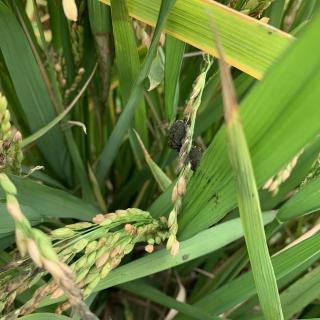Gosong-Palsu: (166, 120, 204, 169)
